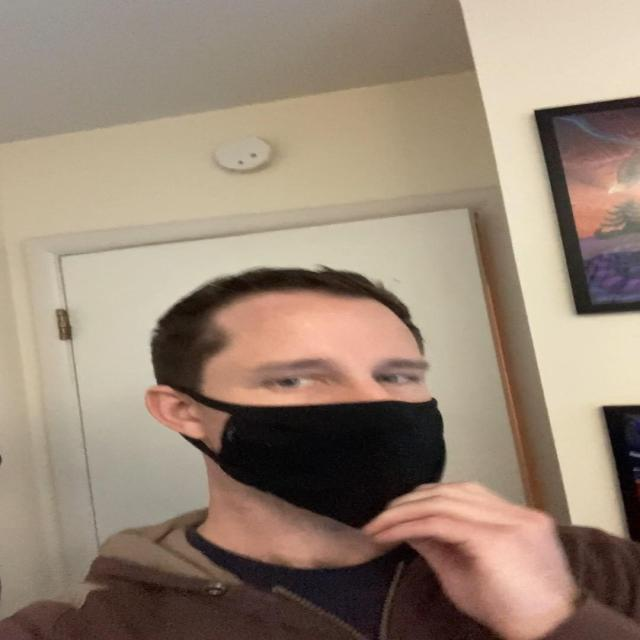no-helmet: (198, 286, 446, 532)
